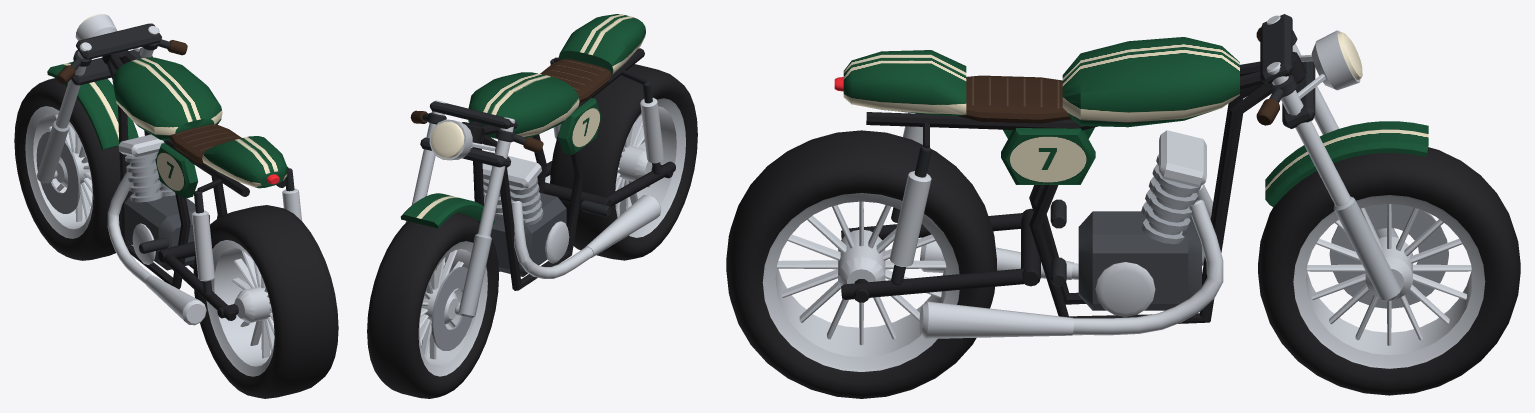
File: MotorcycleTag_Cafe.obj
The picture shows the model from 3 angles, left to right: view 1: azimuth 30°, elevation 25°; view 2: azimuth 150°, elevation 25°; view 3: azimuth 270°, elevation 25°; orthographic projection. The views are drawn at different scales.
Visible parts, largest first — view 1: RearWheel, FrontWheel, Bodywork, Engine, Fork, Frame, Swingarm, Exhaust, FrontFender, Seat, Handlebars; view 2: FrontWheel, RearWheel, Bodywork, Fork, Engine, Frame, Exhaust, Swingarm, FrontFender, Seat, Headlight, Handlebars; view 3: RearWheel, FrontWheel, Bodywork, Engine, Fork, Exhaust, Frame, Swingarm, FrontFender, Seat, Handlebars.
Part boxes in pixels (x1=…): RearWheel: x1=193, y1=205, x2=338, y2=398; FrontWheel: x1=14, y1=78, x2=132, y2=260; Bodywork: x1=112, y1=57, x2=287, y2=198; Engine: x1=118, y1=134, x2=210, y2=270; Fork: x1=36, y1=14, x2=161, y2=183; Frame: x1=102, y1=50, x2=288, y2=289; Swingarm: x1=158, y1=168, x2=301, y2=320; Exhaust: x1=107, y1=171, x2=206, y2=325; FrontFender: x1=47, y1=62, x2=138, y2=149; Seat: x1=169, y1=124, x2=241, y2=165; Handlebars: x1=57, y1=39, x2=187, y2=83; FrontWheel: x1=367, y1=212, x2=498, y2=398; RearWheel: x1=550, y1=64, x2=697, y2=260; Bodywork: x1=468, y1=14, x2=645, y2=154; Fork: x1=405, y1=100, x2=517, y2=317; Engine: x1=482, y1=151, x2=569, y2=276; Frame: x1=462, y1=48, x2=646, y2=290; Exhaust: x1=483, y1=175, x2=661, y2=278; Swingarm: x1=543, y1=58, x2=675, y2=207; FrontFender: x1=400, y1=193, x2=494, y2=228; Seat: x1=540, y1=59, x2=611, y2=102; Headlight: x1=430, y1=121, x2=464, y2=158; Handlebars: x1=410, y1=110, x2=543, y2=153; RearWheel: x1=726, y1=130, x2=996, y2=398; FrontWheel: x1=1258, y1=147, x2=1520, y2=395; Bodywork: x1=843, y1=37, x2=1239, y2=184; Engine: x1=1078, y1=130, x2=1206, y2=316; Fork: x1=1260, y1=14, x2=1401, y2=301; Exhaust: x1=919, y1=184, x2=1223, y2=338; Frame: x1=866, y1=52, x2=1306, y2=323; Swingarm: x1=841, y1=112, x2=1040, y2=302; FrontFender: x1=1265, y1=121, x2=1428, y2=207; Seat: x1=958, y1=75, x2=1071, y2=123; Handlebars: x1=1256, y1=27, x2=1297, y2=125.
Bounding box in the file's own units: 2.11 × 3.93 × 7.98.
Materials: 1 (1 with a texture image).
